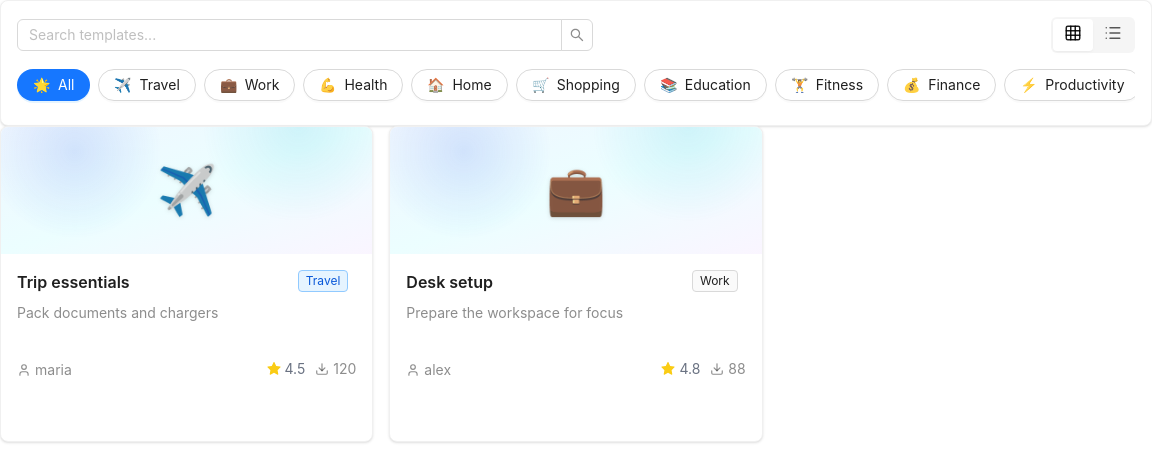
Test: TemplateMarketplace › filters templates by search text and category
Type "desk" into the search field with placeholder "Search templates..." at (282, 35), box 29,24 -> 534,46
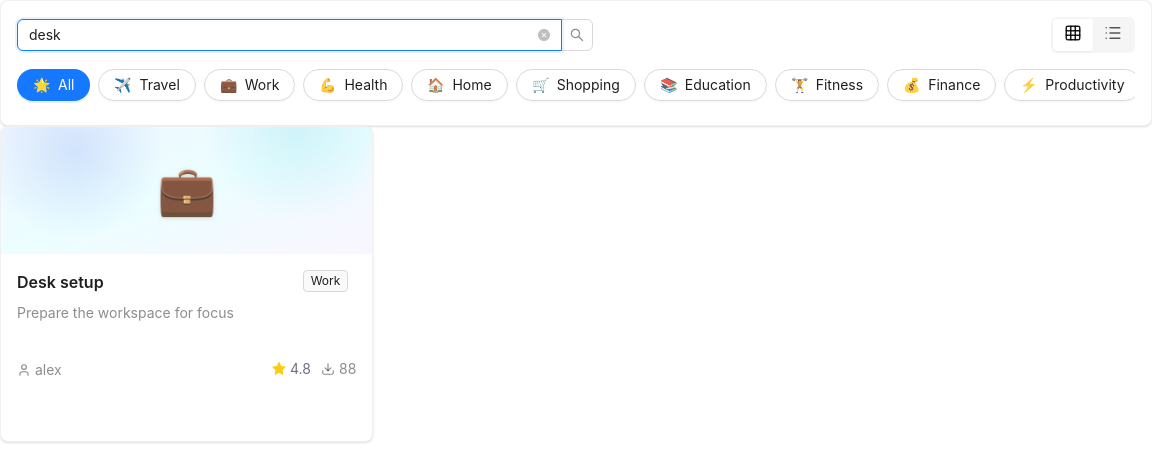
Expected: the heading "Desk setup" is shown, 17,270 -> 104,294
Expected: the heading "Trip essentials" is gone
Clear the search field with placeholder "Search templates..." at (282, 35), box 29,24 -> 534,46
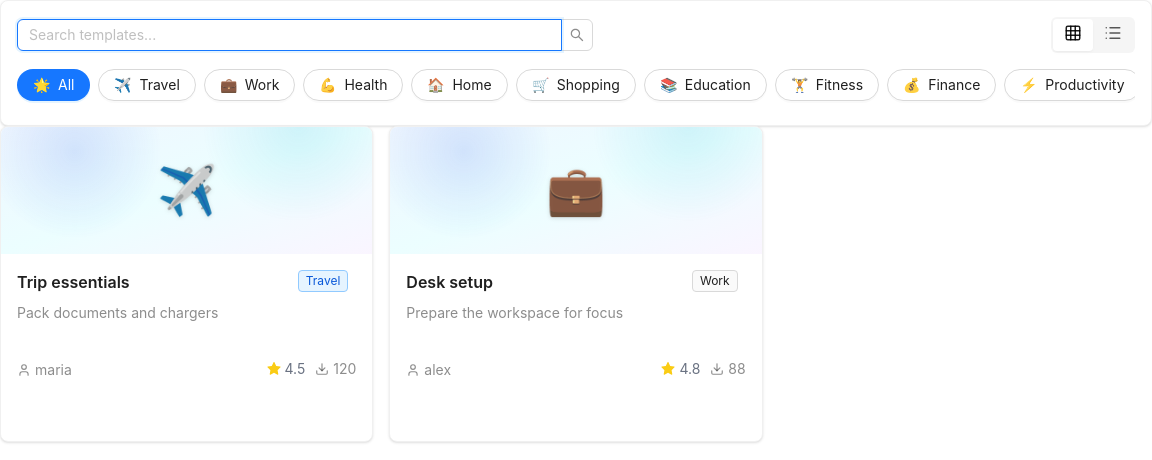
Click the button "💼 Work" at (250, 85), box 204,69 -> 296,101
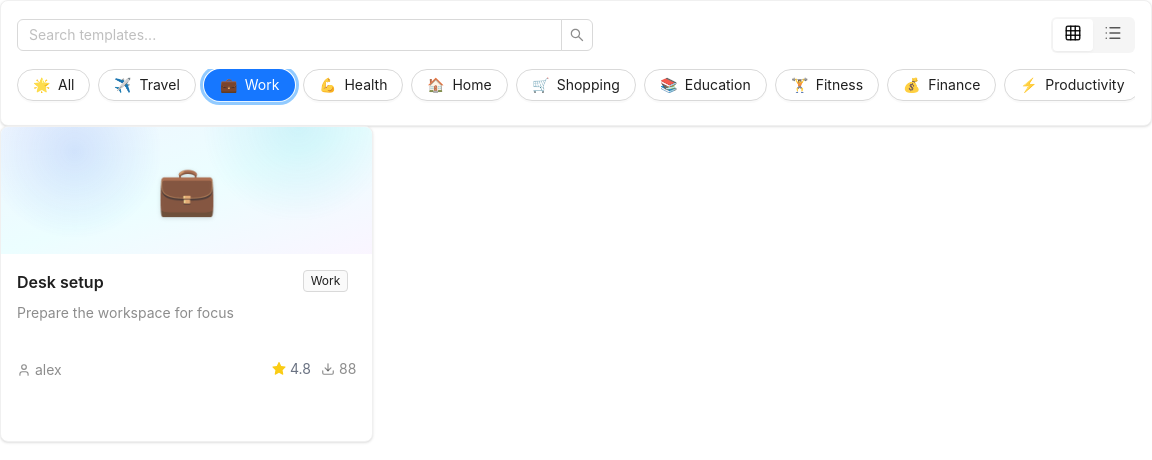
Expected: the heading "Desk setup" is shown, 17,270 -> 104,294
Expected: the heading "Trip essentials" is gone
